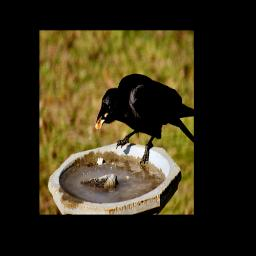Crow: (95, 72, 194, 166)
